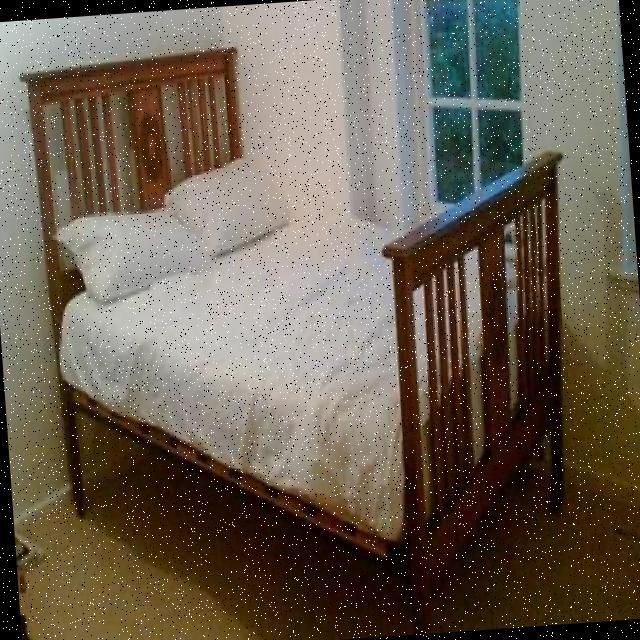Bed: (7, 21, 615, 640)
